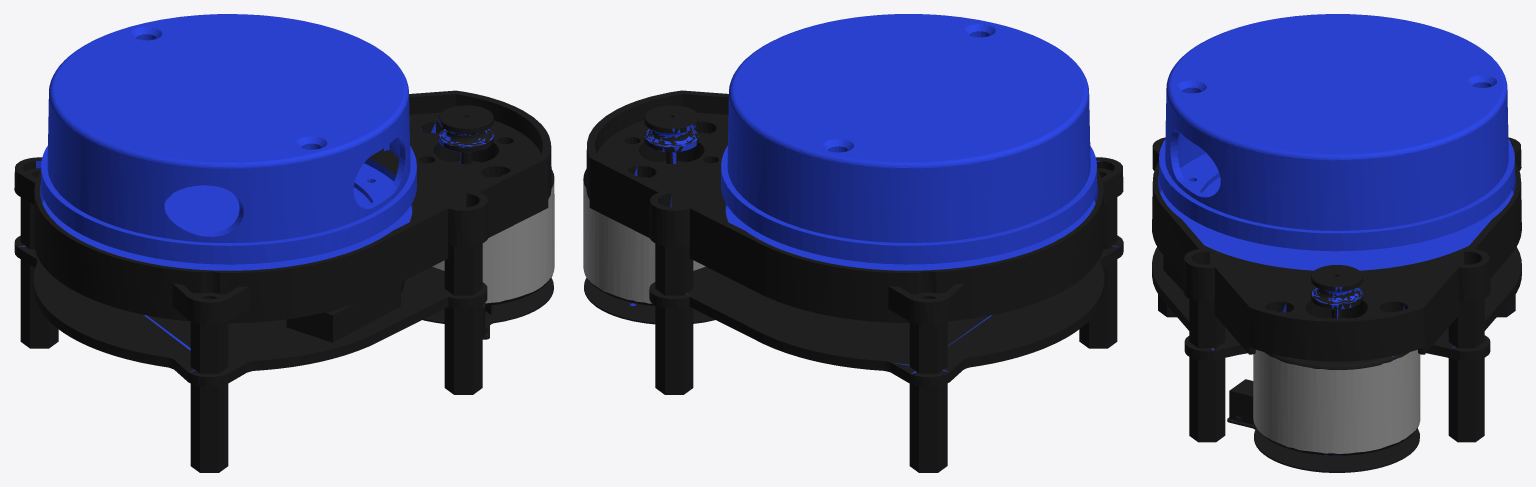
3 views of the same model, side by side, from view 1: azimuth 30°, elevation 25°; view 2: azimuth 150°, elevation 25°; view 3: azimuth 270°, elevation 25° (orthographic). The views are drawn at different scales.
Visible parts, largest first — view 1: X4; view 2: X4; view 3: X4.
Part boxes in pixels (box(x1,y1,x2,y2)): X4: box(14, 14, 554, 472); X4: box(583, 14, 1123, 472); X4: box(1152, 14, 1521, 472).
Bounding box in the file's own units: 0.1017 × 0.0713 × 0.0584.
